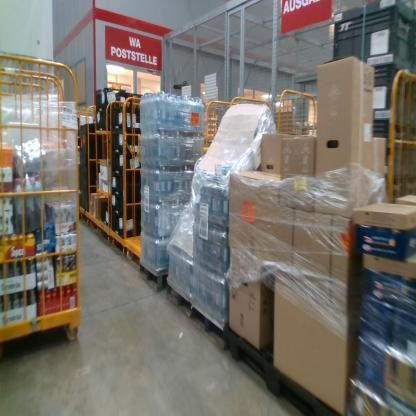pallets: (139, 258, 232, 353)
